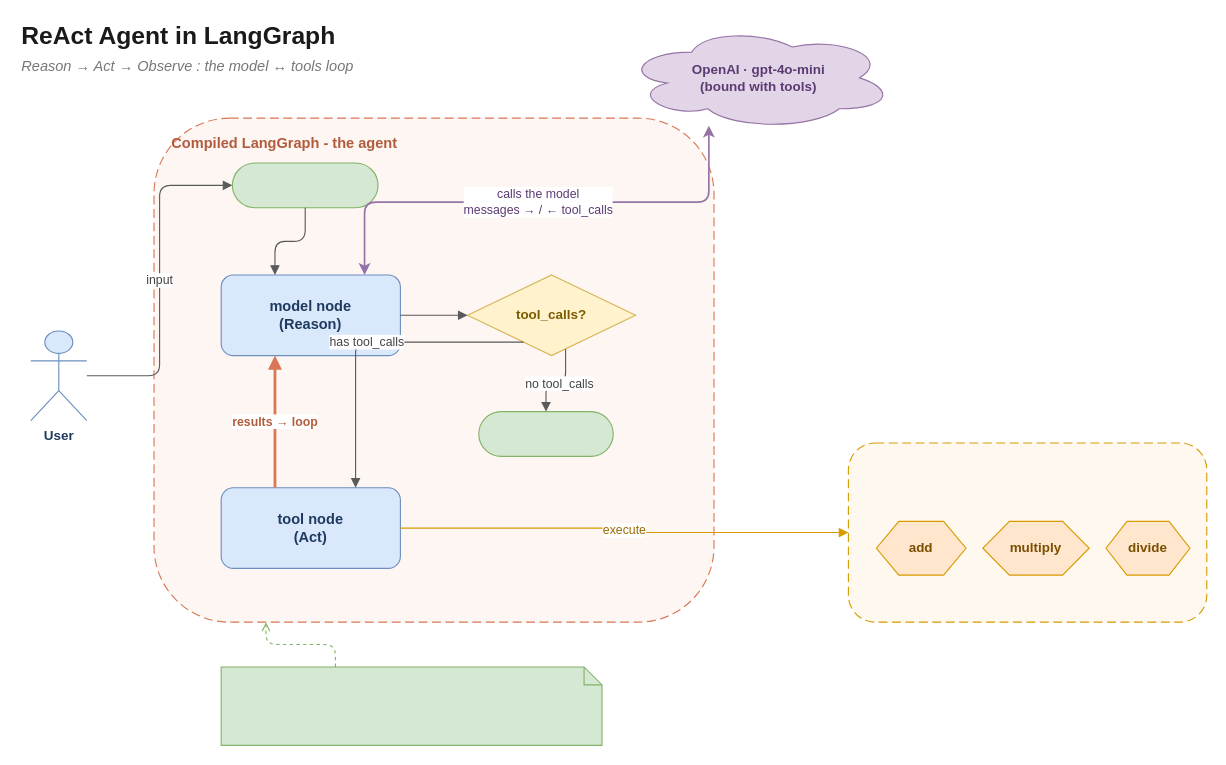
Image size: 1226x765. Some labels were removed from this diagram. The shapes that lost their labels are listed below. From the top down, each one's box as (x1, y1, x2, y2) in pixels, then its label:
(231, 162, 378, 208): START
(478, 410, 613, 456): END
(847, 442, 1207, 622): @tool functions
(220, 666, 602, 745): MessagesState the shared list of messages; add_messages appends one each step
